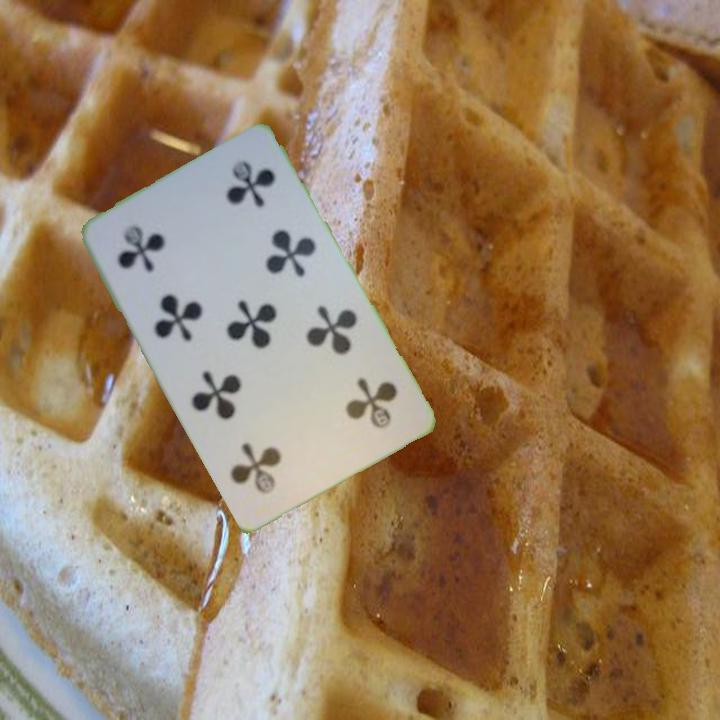c_9.png: (94, 186, 221, 308), (292, 346, 419, 467)
